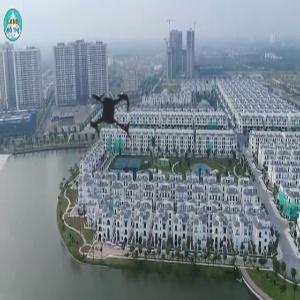drone: (52, 58, 166, 172)
